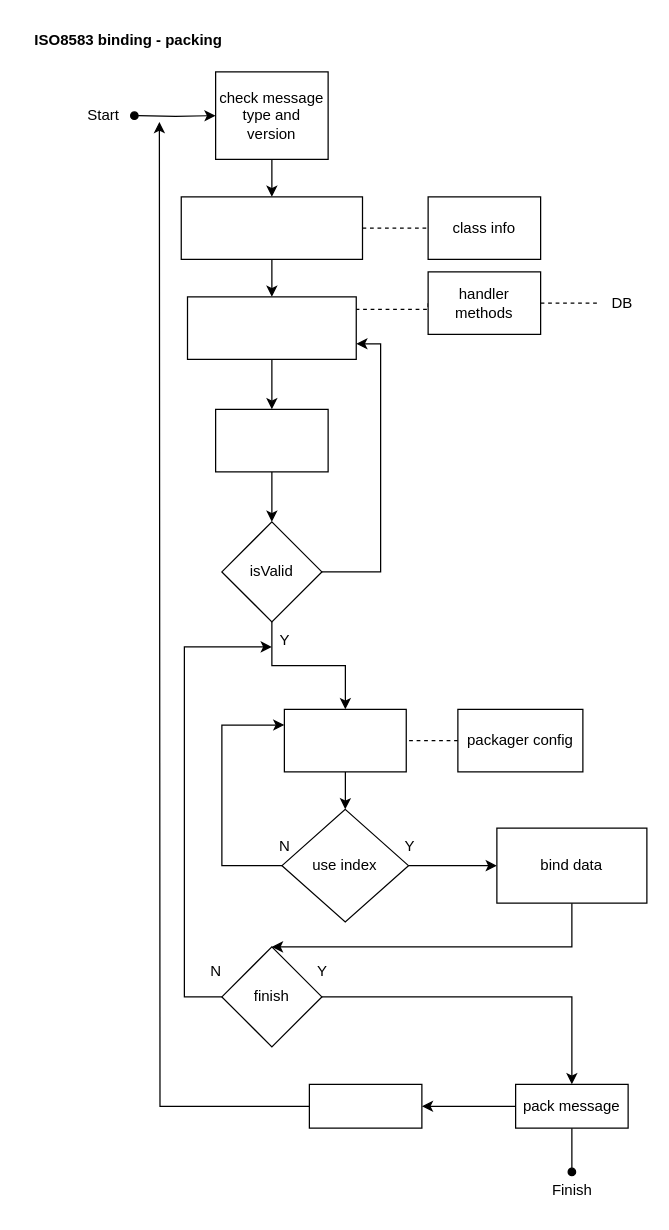
This 669x1230 diagram has some shape labels left out. The shapes that lost their labels are listed below. From the top down, each one's centre as x and y in pixels, then its label:
At point 271,227: "create message object".
At point 271,327: "handle message".
At point 271,440: "fetch field data".
At point 344,740: "bind field into set".
At point 365,1105: "loop".
